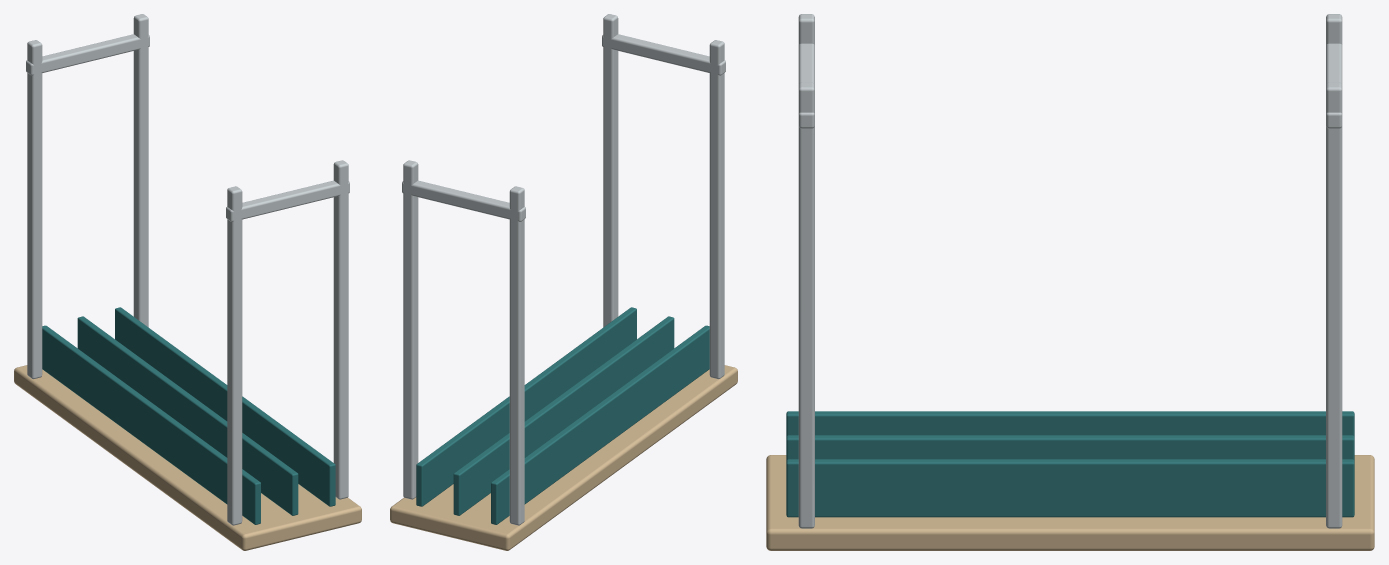
The model's file is tabletop-hobby-store-and-club-table-topper-storage-rac-2fab2037__31568.glb.
The picture shows the model from 3 angles, left to right: view 1: azimuth 30°, elevation 25°; view 2: azimuth 150°, elevation 25°; view 3: azimuth 270°, elevation 25°; orthographic projection. The views are drawn at different scales.
Visible parts, largest first — view 1: table-topper-storage-rack; view 2: table-topper-storage-rack; view 3: table-topper-storage-rack.
Part boxes in pixels (box(x1,y1,x2,y2)): table-topper-storage-rack: box(14, 14, 361, 550); table-topper-storage-rack: box(390, 14, 737, 550); table-topper-storage-rack: box(766, 14, 1374, 550).
Size of the model in its own units: 0.45 by 1.26 by 1.5.
